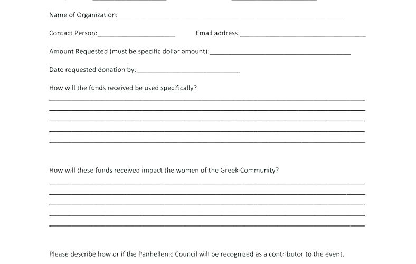textline: (44, 134, 369, 147), (115, 5, 348, 23), (46, 174, 366, 187), (44, 124, 369, 135), (45, 112, 368, 123), (44, 196, 367, 207), (46, 218, 368, 229), (46, 92, 367, 103), (45, 207, 368, 217), (46, 187, 367, 197), (207, 41, 357, 57), (45, 105, 367, 112), (239, 23, 368, 39), (135, 59, 243, 75), (96, 26, 178, 40)
